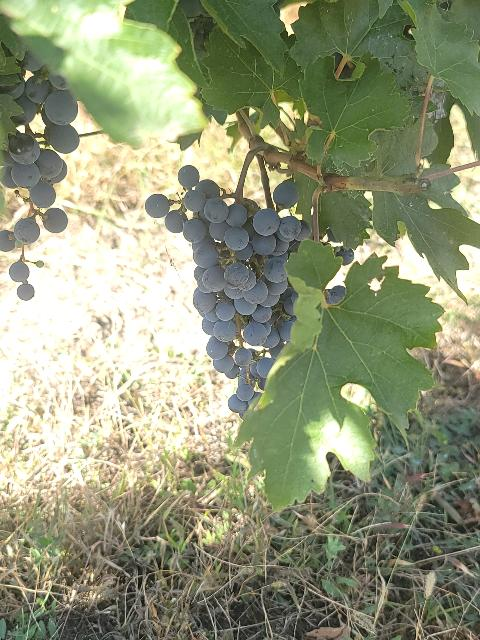grapes: (145, 165, 312, 416), (0, 51, 80, 300)
